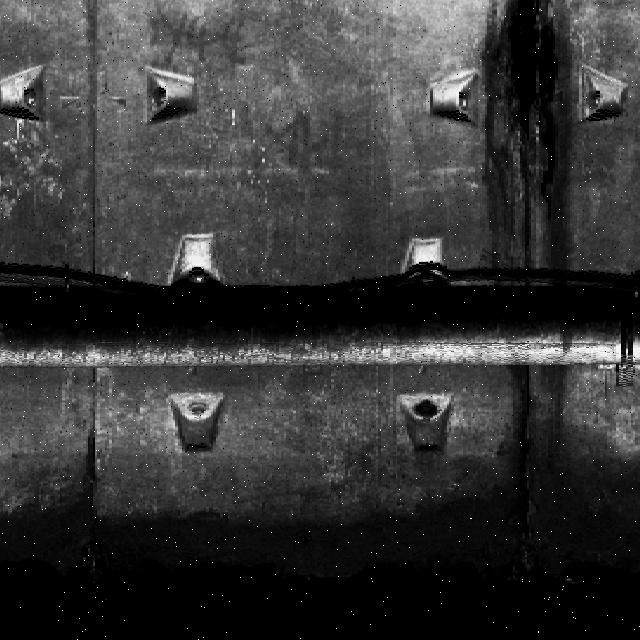leakage: (1, 480, 640, 640), (482, 2, 586, 289), (475, 369, 639, 476)
